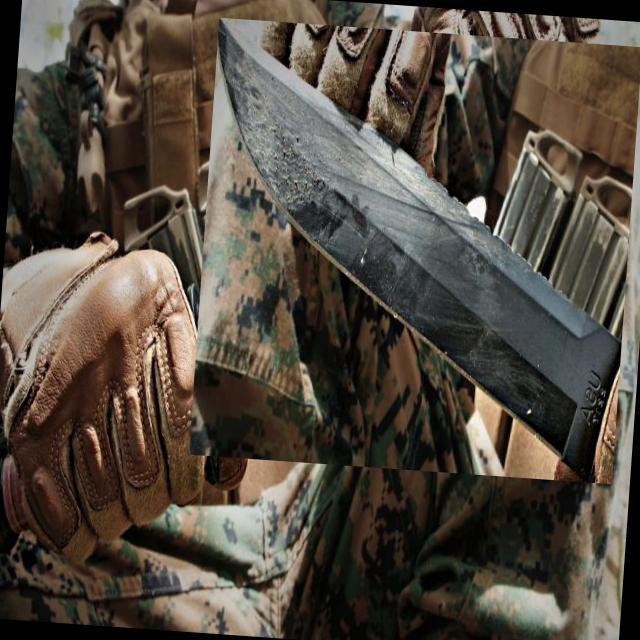Knife: (220, 17, 621, 482)
